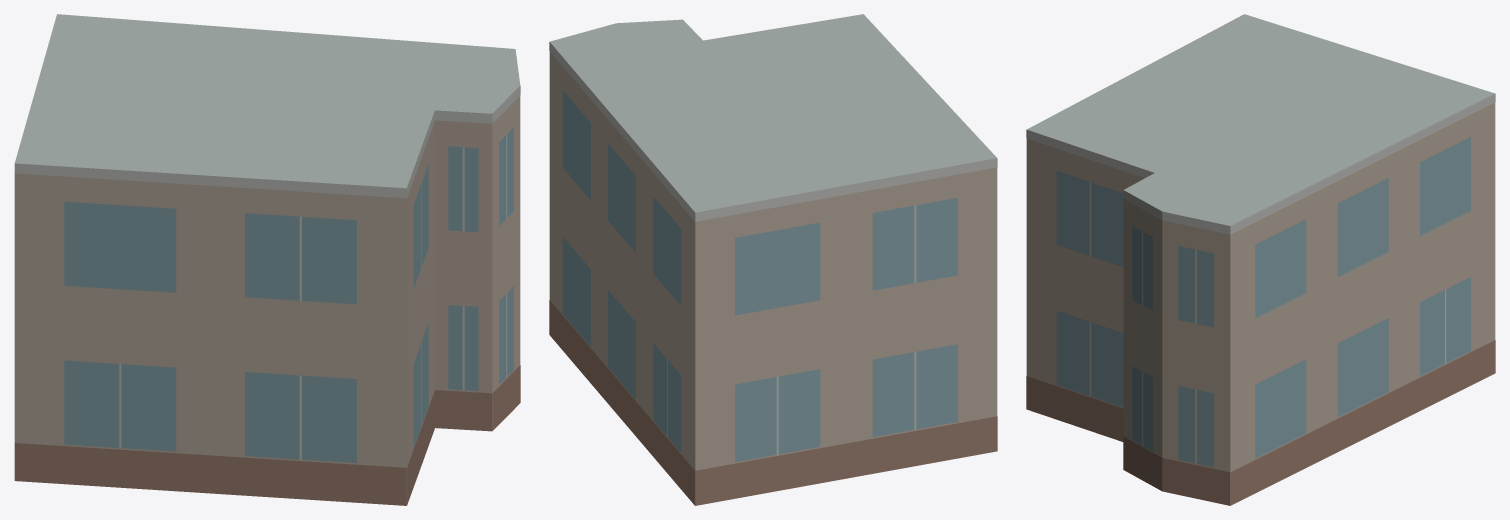
Rendered from survey-upis-32830876.glb.
3 views of the same model, side by side, from view 1: azimuth 30°, elevation 25°; view 2: azimuth 150°, elevation 25°; view 3: azimuth 270°, elevation 25° (orthographic). The views are drawn at different scales.
Visible parts, largest first — view 1: survey-upis-32830876.tmp; view 2: survey-upis-32830876.tmp; view 3: survey-upis-32830876.tmp.
Part boxes in pixels (left/top/right/bottom): survey-upis-32830876.tmp: left=14, top=14, right=520, bottom=505; survey-upis-32830876.tmp: left=549, top=14, right=997, bottom=505; survey-upis-32830876.tmp: left=1026, top=14, right=1495, bottom=505.
Size of the model in its own units: 12.68 by 7.8 by 11.85.
